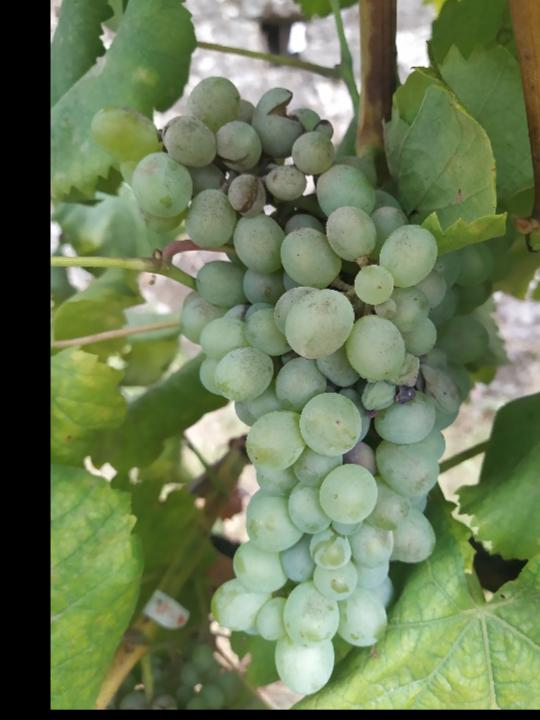grape: (88, 74, 493, 699)
